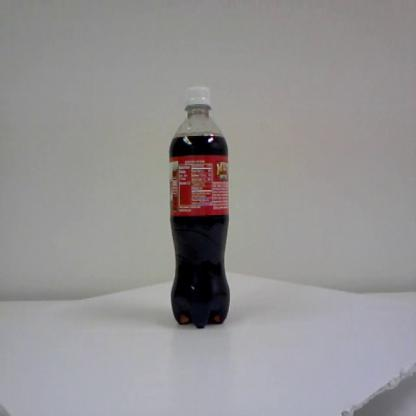bottle: (166, 83, 232, 331)
